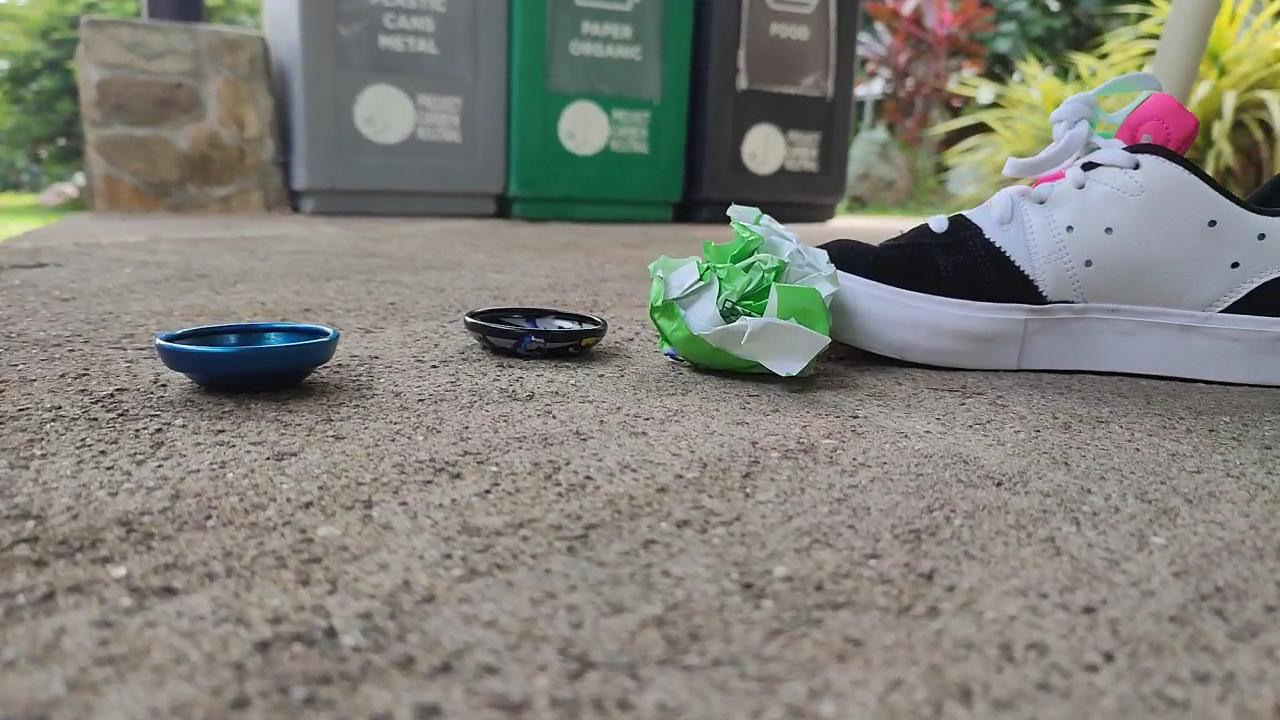Paper: (644, 190, 842, 383)
